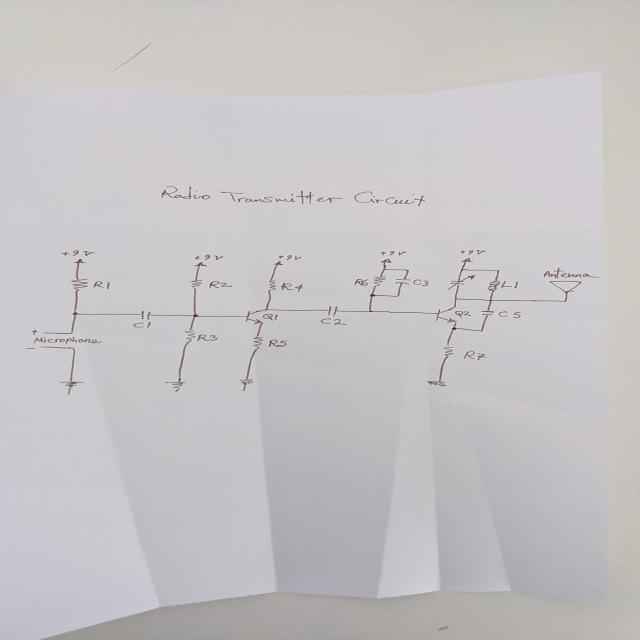capacitor: (446, 274, 476, 291), (478, 309, 496, 317), (394, 278, 412, 286), (326, 305, 338, 317), (138, 310, 152, 320)
ground: (59, 380, 85, 395), (162, 380, 188, 392), (237, 378, 255, 392), (425, 380, 448, 387)
inductor: (486, 279, 501, 292)
junction: (192, 313, 200, 318), (71, 311, 79, 316), (450, 326, 458, 331), (367, 308, 375, 313), (486, 298, 494, 302), (368, 293, 376, 297), (477, 328, 484, 332), (69, 346, 76, 350), (68, 330, 74, 334), (494, 269, 502, 272), (381, 267, 387, 271), (394, 294, 400, 298), (562, 299, 569, 302), (452, 297, 458, 300), (404, 268, 410, 271), (458, 268, 466, 270)
resistor: (69, 278, 89, 292), (370, 275, 387, 288), (188, 279, 204, 291), (250, 336, 264, 349), (182, 330, 195, 344), (441, 345, 455, 358), (266, 279, 278, 293)
source: (193, 261, 209, 267), (73, 258, 87, 264), (459, 257, 474, 262), (272, 260, 284, 266), (379, 258, 392, 263)
terminal: (39, 344, 44, 348), (40, 331, 46, 334)
text: (159, 185, 427, 207), (541, 267, 601, 279), (32, 336, 102, 344), (60, 249, 96, 257), (319, 317, 348, 326), (462, 350, 486, 360), (280, 282, 304, 292), (496, 310, 522, 319), (193, 254, 224, 261), (92, 280, 112, 290), (208, 280, 232, 288), (277, 254, 303, 261), (500, 280, 520, 289), (266, 339, 288, 347), (131, 321, 152, 329), (379, 250, 407, 256), (459, 249, 486, 255), (196, 334, 218, 341), (412, 278, 429, 287), (261, 313, 279, 321), (454, 310, 471, 318), (353, 278, 369, 286), (24, 346, 36, 351), (30, 329, 39, 334)
transistor: (433, 305, 459, 324), (243, 308, 270, 324)
